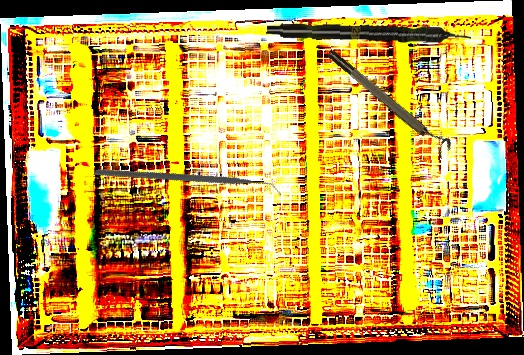Chopper: (93, 98, 282, 269)
Fixation Ring: (325, 42, 455, 160)
Handpiece: (266, 20, 472, 47)
